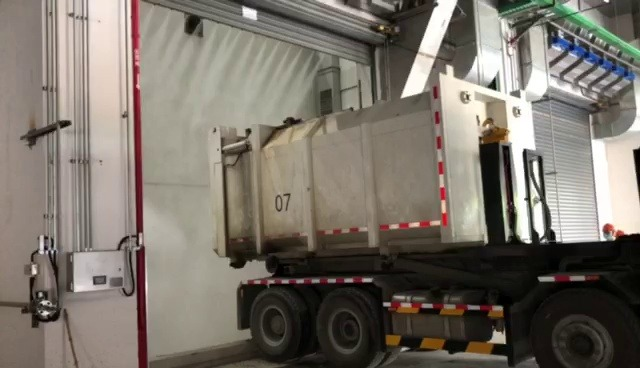dust: (144, 140, 220, 348)
truck: (205, 69, 640, 368)
